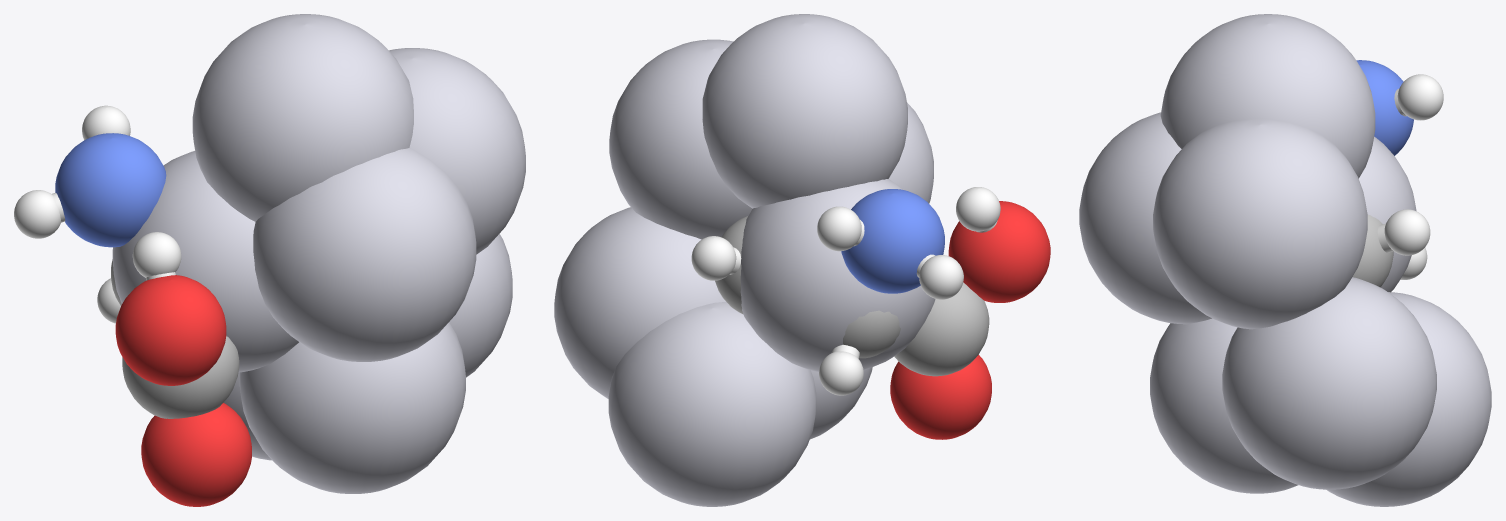
Rendered from valine.glb.
3 views of the same model, side by side, from view 1: azimuth 30°, elevation 25°; view 2: azimuth 150°, elevation 25°; view 3: azimuth 270°, elevation 25° (orthographic). The views are drawn at different scales.
Visible parts, largest first — view 1: Mercury_ball (×7), Oxygen_ball (×2), Nitrogen_ball, Hydrogen_ball (×4), Carbon_ball; view 2: Mercury_ball (×7), Oxygen_ball (×2), Carbon_ball (×3), Hydrogen_ball (×5), Nitrogen_ball; view 3: Mercury_ball (×7), Hydrogen_ball (×3), Nitrogen_ball, Carbon_ball.
Boxes of the visible parts, x1,y1,x2,y2 form: Mercury_ball (×7): [112, 14, 525, 493]; Oxygen_ball (×2): [115, 275, 251, 506]; Nitrogen_ball: [55, 133, 166, 247]; Hydrogen_ball (×4): [14, 105, 181, 323]; Carbon_ball: [122, 336, 239, 418]; Mercury_ball (×7): [554, 14, 935, 506]; Oxygen_ball (×2): [890, 201, 1050, 439]; Carbon_ball (×3): [715, 216, 989, 376]; Hydrogen_ball (×5): [691, 187, 1000, 395]; Nitrogen_ball: [841, 189, 944, 293]; Mercury_ball (×7): [1079, 14, 1491, 506]; Hydrogen_ball (×3): [1384, 74, 1443, 279]; Nitrogen_ball: [1356, 60, 1413, 155]; Carbon_ball: [1352, 214, 1393, 287].
Size of the model in its own units: 6.88 by 6.95 by 5.71.
